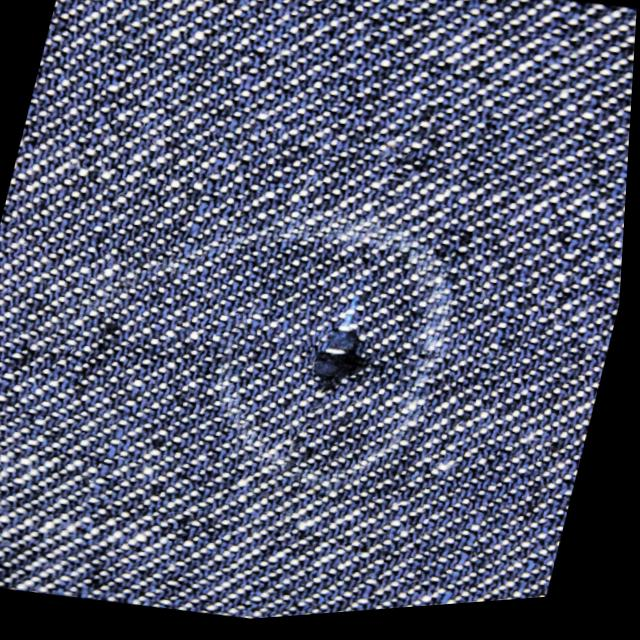Hole: (274, 282, 424, 429)
